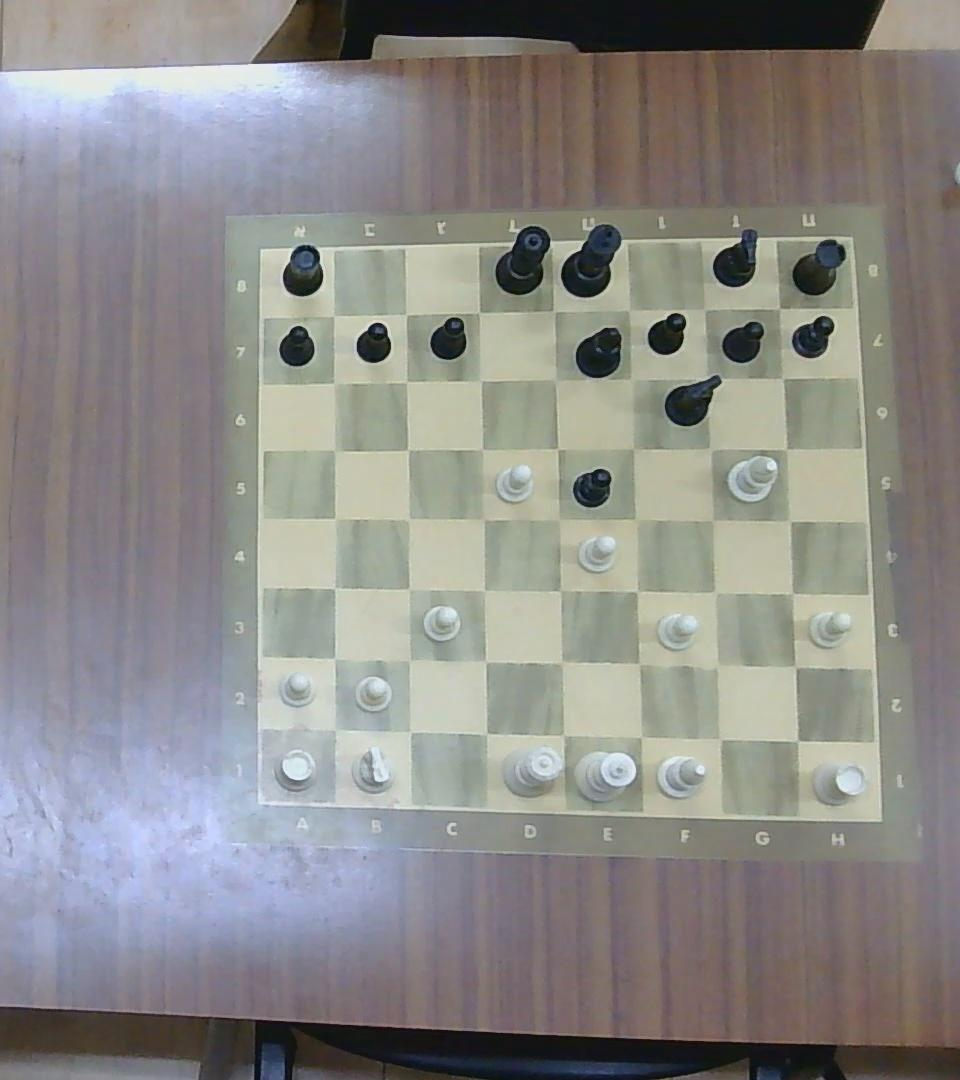xcorner: (465, 502, 498, 534), (318, 433, 351, 463), (701, 575, 735, 604), (392, 500, 424, 530), (317, 641, 349, 670), (319, 302, 352, 330), (693, 294, 725, 322), (774, 508, 807, 534), (393, 302, 421, 332), (547, 718, 574, 748), (763, 294, 796, 318), (466, 721, 499, 745), (539, 366, 569, 392), (543, 503, 570, 531), (782, 652, 811, 678), (471, 646, 497, 674), (770, 435, 802, 457), (468, 579, 500, 601), (467, 436, 495, 461), (774, 577, 803, 601), (619, 433, 645, 459), (390, 366, 417, 391), (397, 576, 422, 603), (318, 504, 346, 528), (623, 648, 647, 676), (544, 438, 574, 460), (467, 366, 492, 392), (705, 724, 730, 750), (545, 577, 572, 601), (394, 643, 418, 670), (783, 728, 810, 752), (539, 300, 569, 321), (468, 302, 494, 326), (700, 654, 726, 678), (320, 716, 346, 740), (616, 298, 644, 320), (322, 574, 347, 598), (547, 650, 573, 673), (701, 506, 725, 530), (619, 578, 644, 601), (627, 724, 652, 747), (695, 434, 720, 456), (621, 508, 646, 530), (622, 366, 646, 388), (395, 719, 419, 741), (769, 364, 794, 385), (396, 436, 418, 459), (320, 371, 345, 390), (694, 370, 714, 386)
